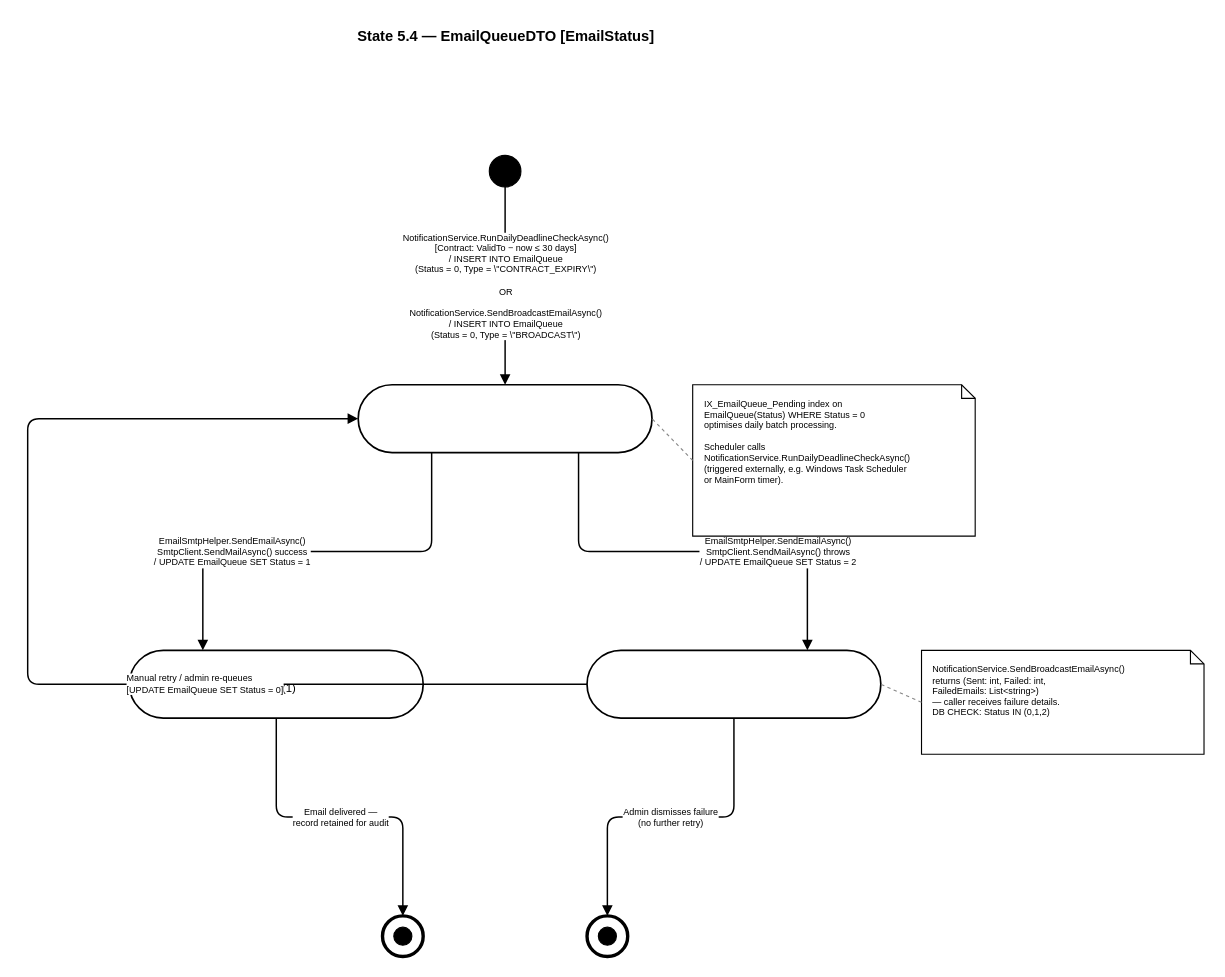
This 1225x977 diagram has some shape labels left out. The centre of each missing label's shape, as x and y in pixels:
Failed (2): (x=733, y=683)
Pending (0): (x=504, y=418)
